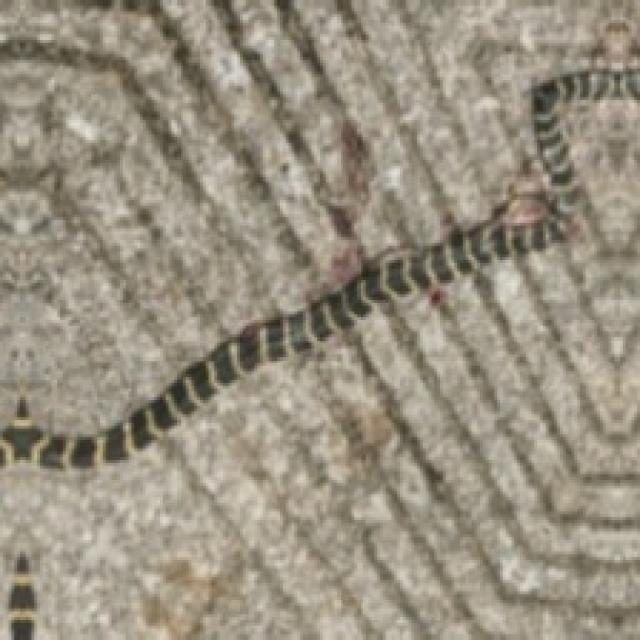king cobra: (0, 66, 637, 637), (0, 69, 637, 466)
